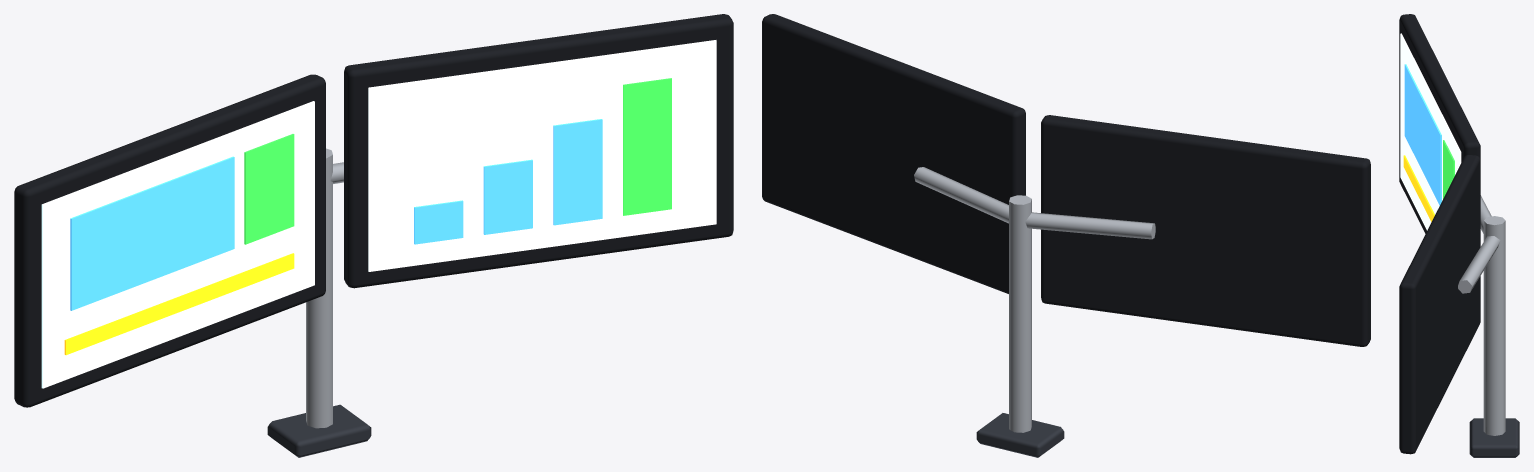
The model's file is station_processing_ausstattung_1_3.glb.
3 views of the same model, side by side, from view 1: azimuth 30°, elevation 25°; view 2: azimuth 150°, elevation 25°; view 3: azimuth 270°, elevation 25° (orthographic). The views are drawn at different scales.
Visible parts, largest first — view 1: station_processing_ausstattung_1_3; view 2: station_processing_ausstattung_1_3; view 3: station_processing_ausstattung_1_3.
Part boxes in pixels (<box>): station_processing_ausstattung_1_3: <box>14,14,733,457</box>; station_processing_ausstattung_1_3: <box>762,14,1370,457</box>; station_processing_ausstattung_1_3: <box>1399,14,1519,457</box>.
Size of the model in its own units: 1.3 by 0.658 by 0.2416.
